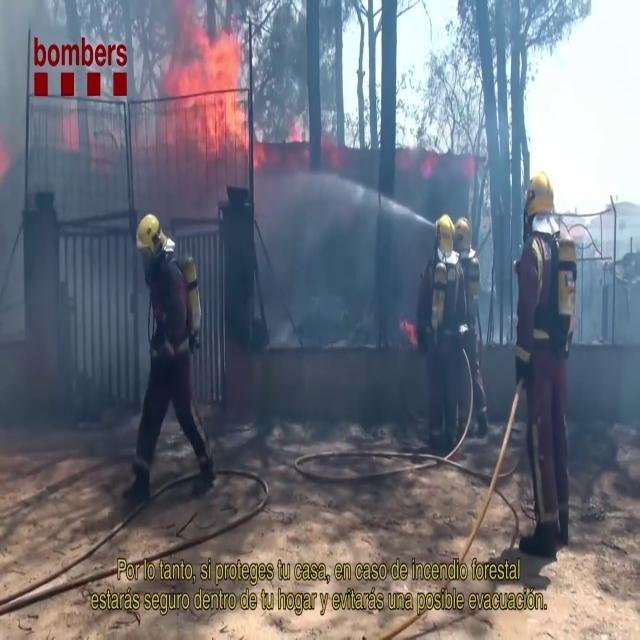Fire: (172, 22, 256, 154)
